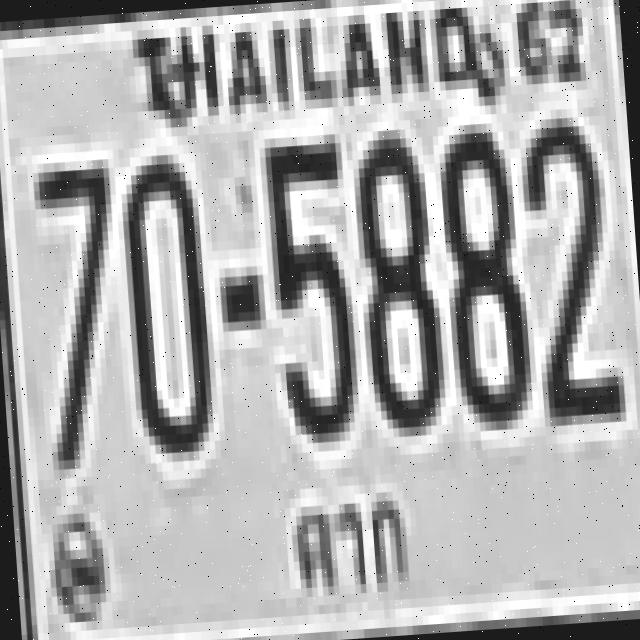0: (115, 148, 212, 450)
2: (517, 106, 620, 418)
5: (258, 134, 355, 436)
7: (32, 159, 122, 461), (32, 154, 118, 384)
8: (431, 122, 528, 424), (351, 128, 442, 430)
Tak: (281, 482, 414, 602)
